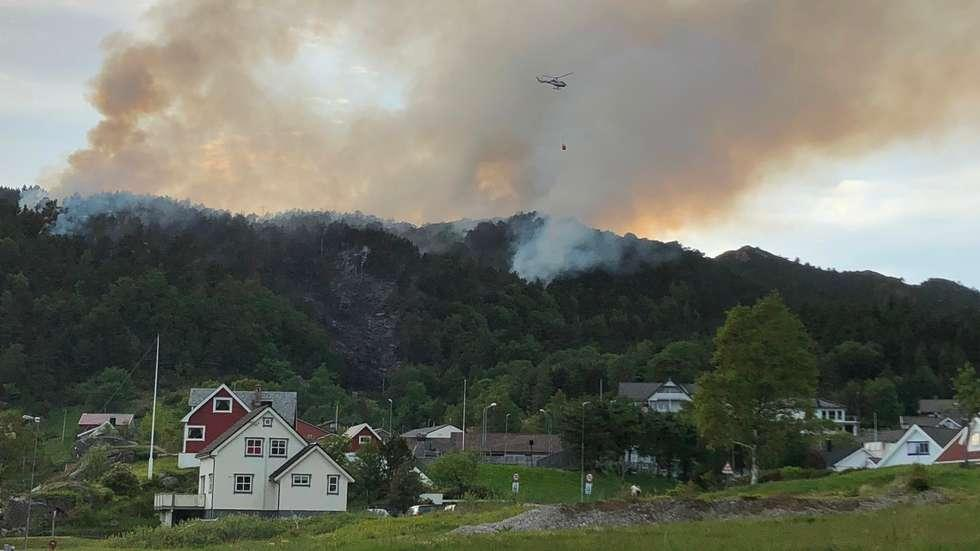smoke: (506, 9, 943, 289), (26, 6, 476, 237)
